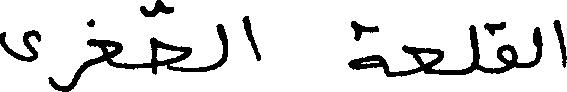X: (151, 0, 190, 79), (87, 14, 122, 72), (349, 16, 383, 74), (402, 40, 444, 80), (0, 25, 39, 66), (49, 58, 83, 91), (498, 17, 516, 78), (243, 11, 260, 65), (554, 15, 566, 72), (468, 20, 478, 78), (533, 22, 541, 71), (226, 30, 227, 65)
